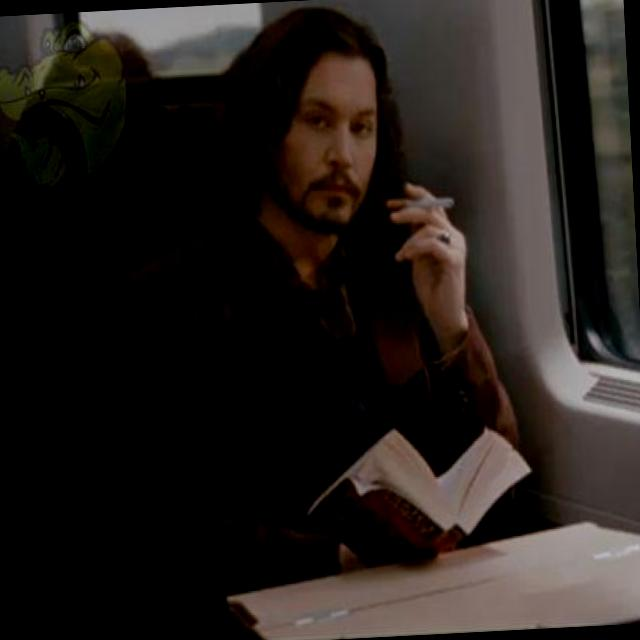smoke: (395, 170, 470, 222)
